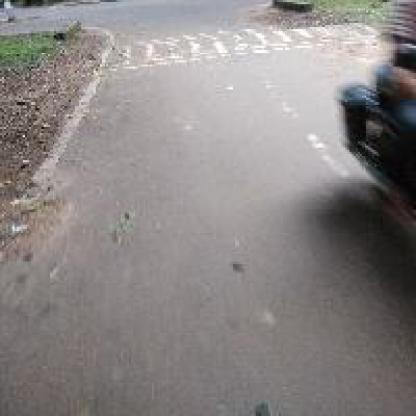Speed Bump: (108, 21, 370, 71)
